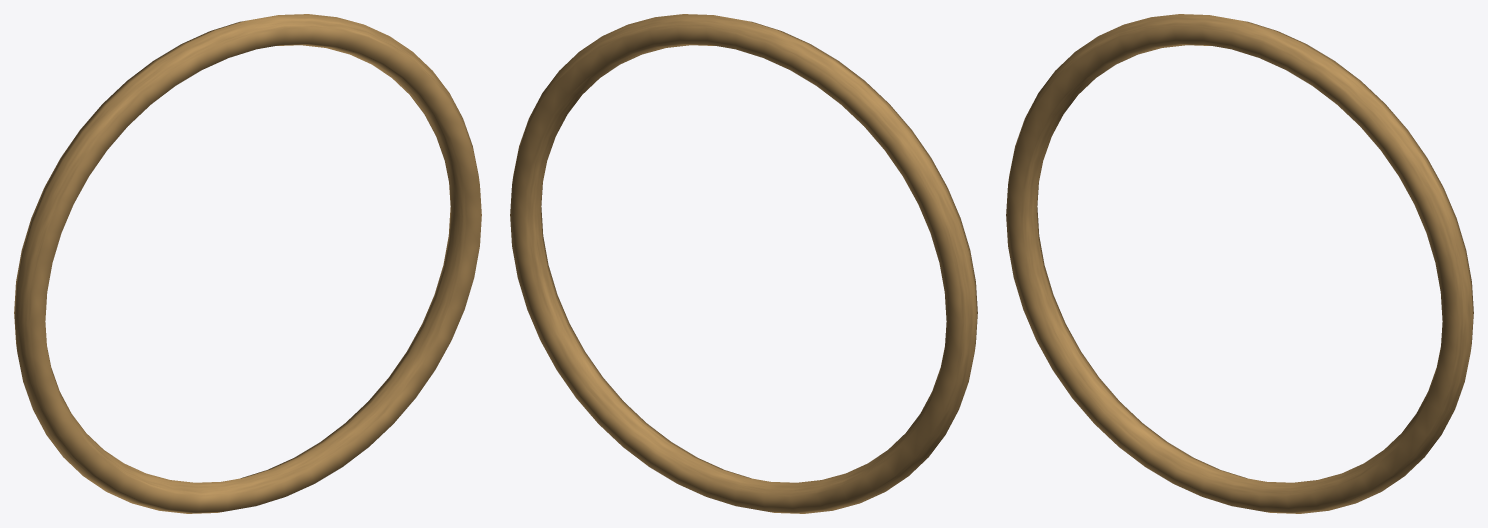
The model's file is Furn_FlyRing.fbx.
The picture shows the model from 3 angles, left to right: view 1: azimuth 30°, elevation 25°; view 2: azimuth 150°, elevation 25°; view 3: azimuth 330°, elevation 25°; orthographic projection.
Parts seen in each view (by area): view 1: Furn_FlyRing_Mesh; view 2: Furn_FlyRing_Mesh; view 3: Furn_FlyRing_Mesh.
Boxes of the visible parts, left/top/right/bottom form: Furn_FlyRing_Mesh: left=14, top=14, right=481, bottom=513; Furn_FlyRing_Mesh: left=510, top=14, right=977, bottom=513; Furn_FlyRing_Mesh: left=1006, top=14, right=1473, bottom=513.
Bounding box in the file's own units: 1.6 × 1.6 × 0.1.
Materials: 1 (1 with a texture image).
